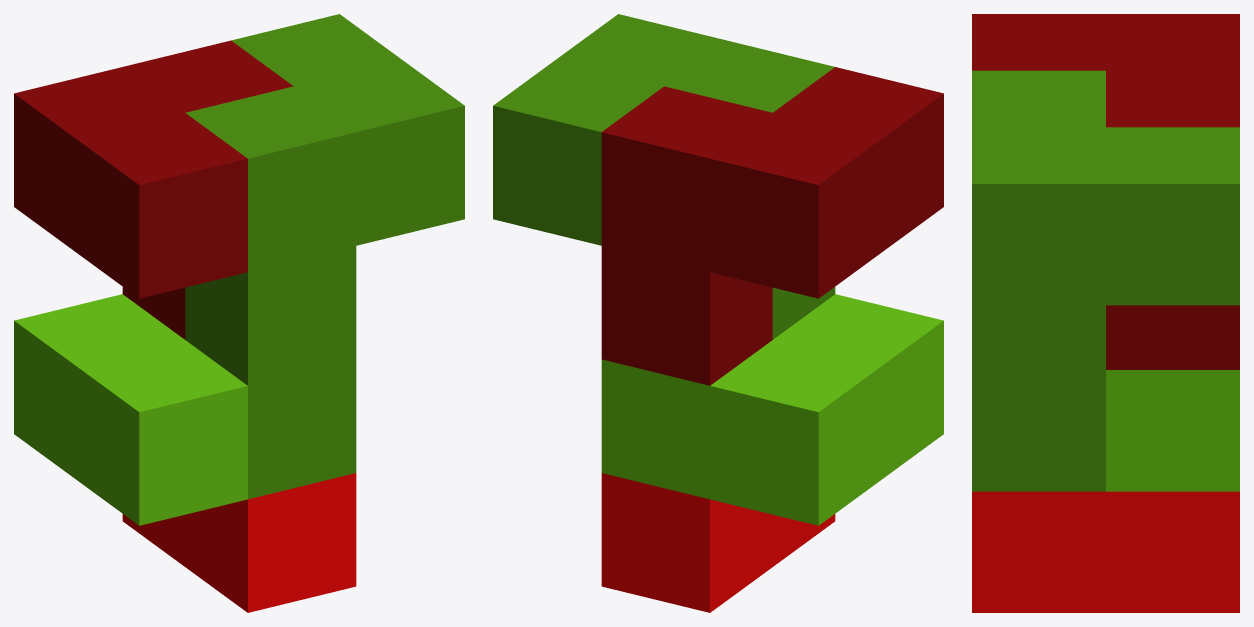
3 views of the same model, side by side, from view 1: azimuth 30°, elevation 25°; view 2: azimuth 150°, elevation 25°; view 3: azimuth 270°, elevation 25° (orthographic). The views are drawn at different scales.
Visible parts, largest first — view 1: mergedBlocks(Clone); view 2: mergedBlocks(Clone); view 3: mergedBlocks(Clone).
Part boxes in pixels (x1,y1,x2,y2): mergedBlocks(Clone): [14, 14, 464, 612]; mergedBlocks(Clone): [493, 14, 943, 612]; mergedBlocks(Clone): [972, 14, 1239, 612].
Bounding box in the file's own units: 3 × 4 × 2.
4 materials, 4 textured.
